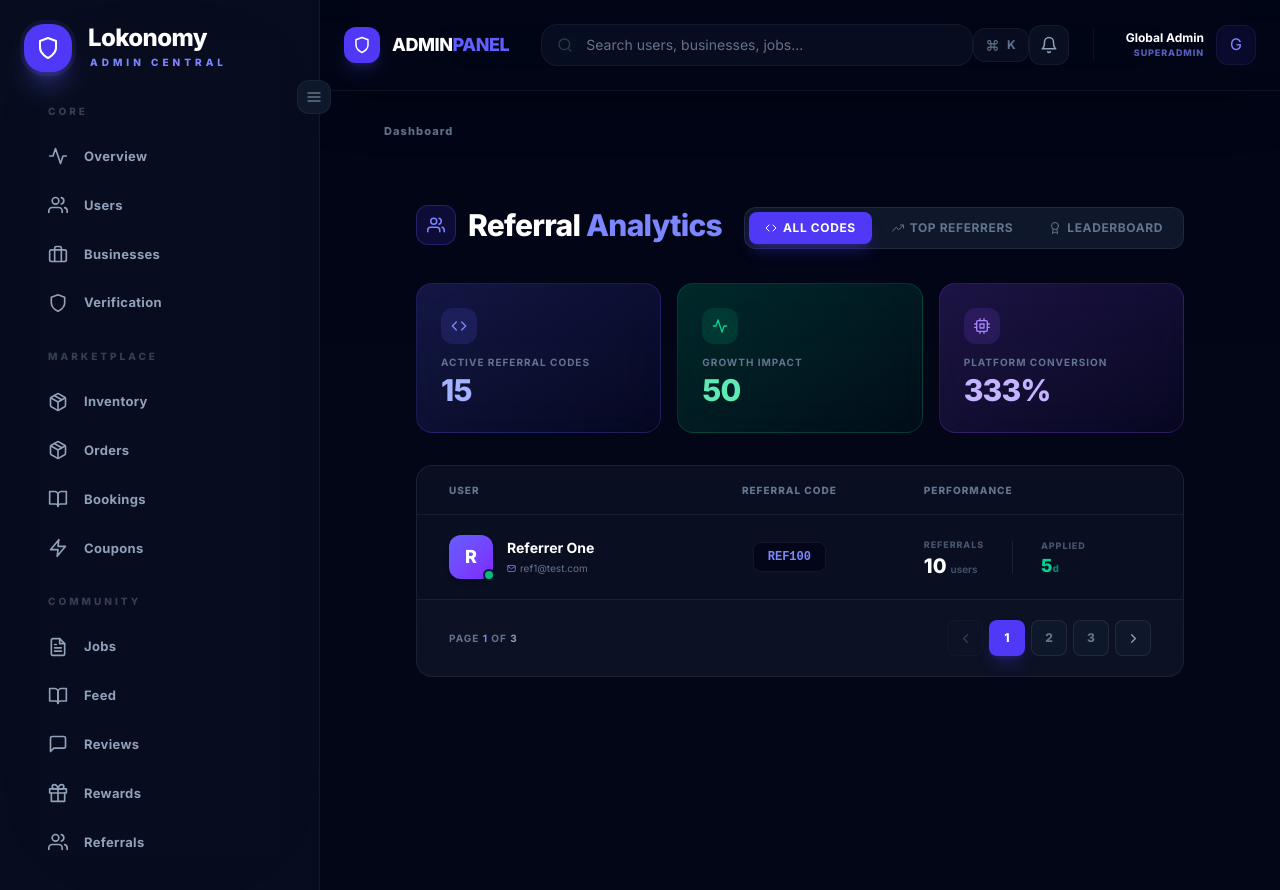
Test: AdminReferrals Page › switches to top referrers tab
Click the button "Top Referrers" at (953, 228), box [876, 212, 1029, 244]
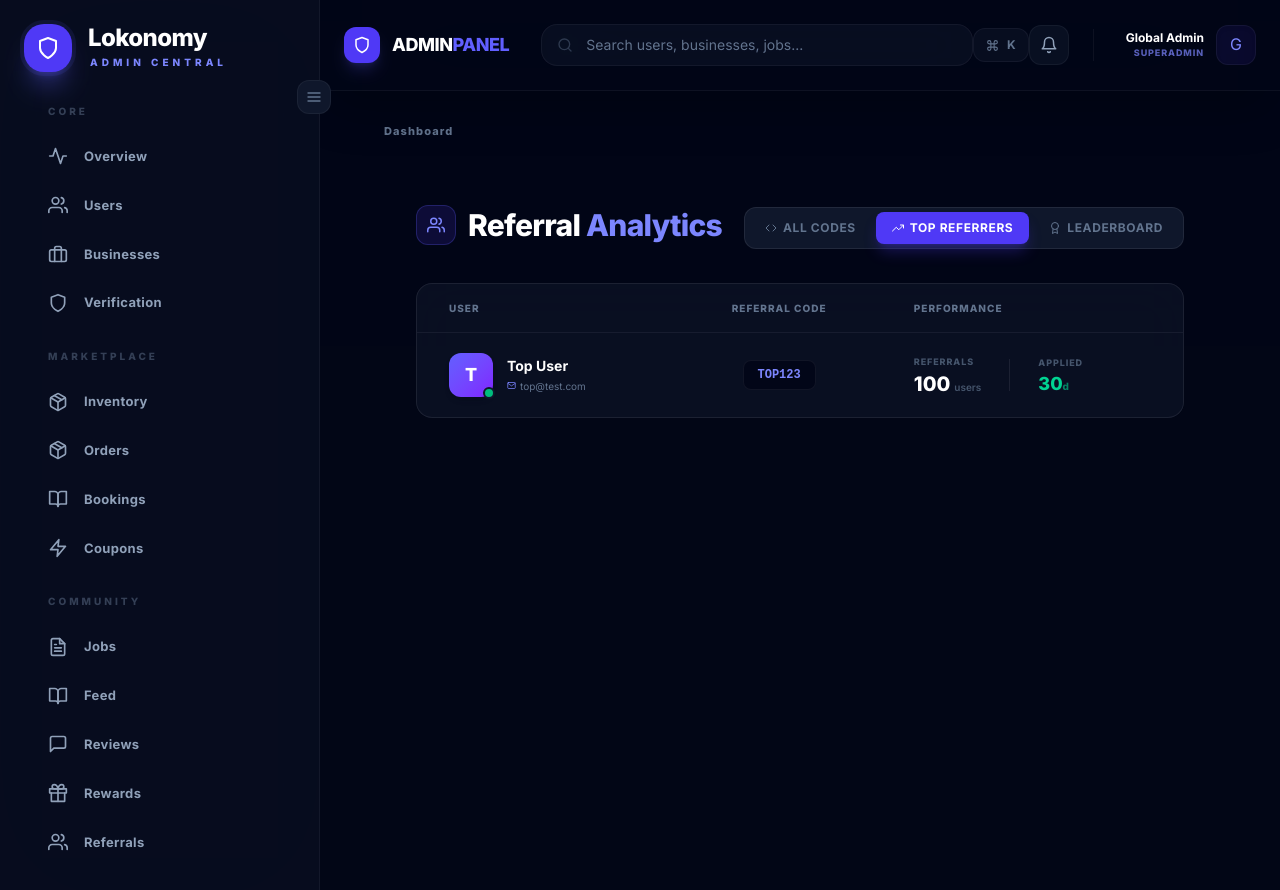
Check: the text "Top User" is shown, box [507, 357, 568, 374]
